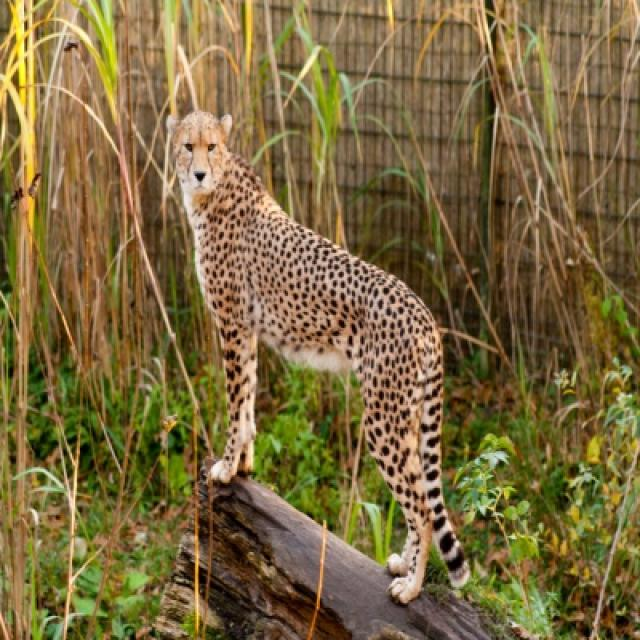Cheetah: (166, 110, 467, 603)
